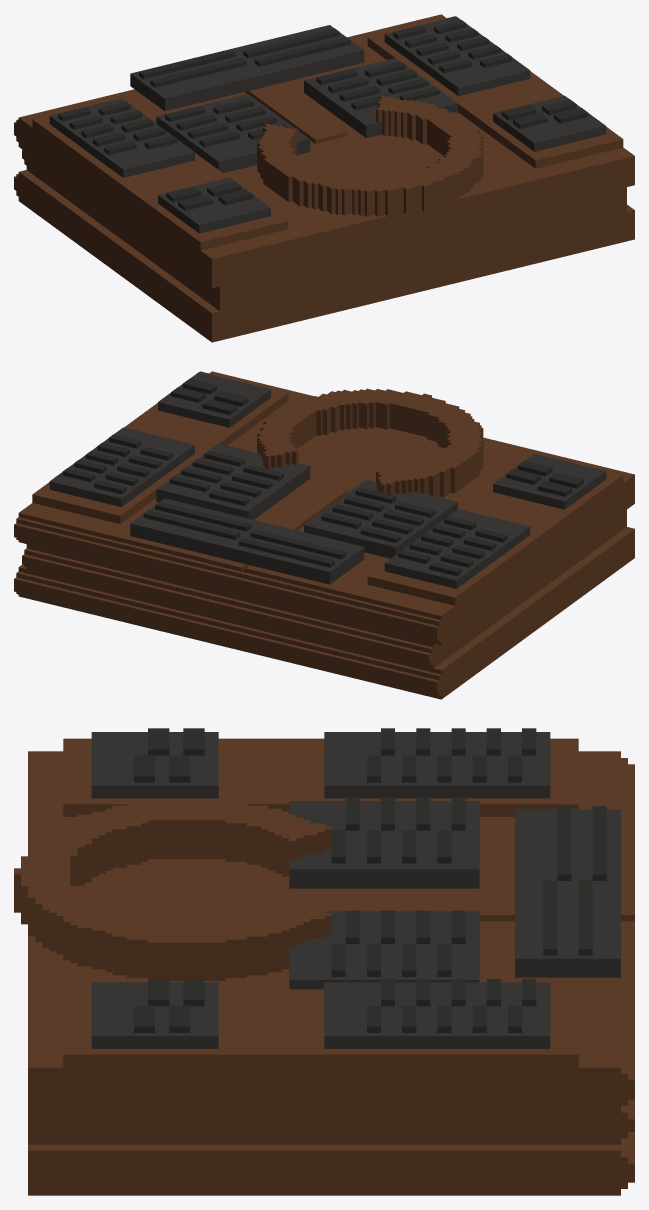
Rendered from jacket_leather_tire.glb.
The picture shows the model from 3 angles, top to bottom: view 1: azimuth 30°, elevation 25°; view 2: azimuth 150°, elevation 25°; view 3: azimuth 270°, elevation 25°; orthographic projection. The views are drawn at different scales.
Visible parts, largest first — view 1: jacket_leather_tire:compound; view 2: jacket_leather_tire:compound; view 3: jacket_leather_tire:compound.
Boxes of the visible parts, x1,y1,x2,y2 form: jacket_leather_tire:compound: [14, 14, 634, 342]; jacket_leather_tire:compound: [14, 371, 634, 699]; jacket_leather_tire:compound: [14, 728, 634, 1195].
Size of the model in its own units: 0.424 by 0.104 by 0.352.
